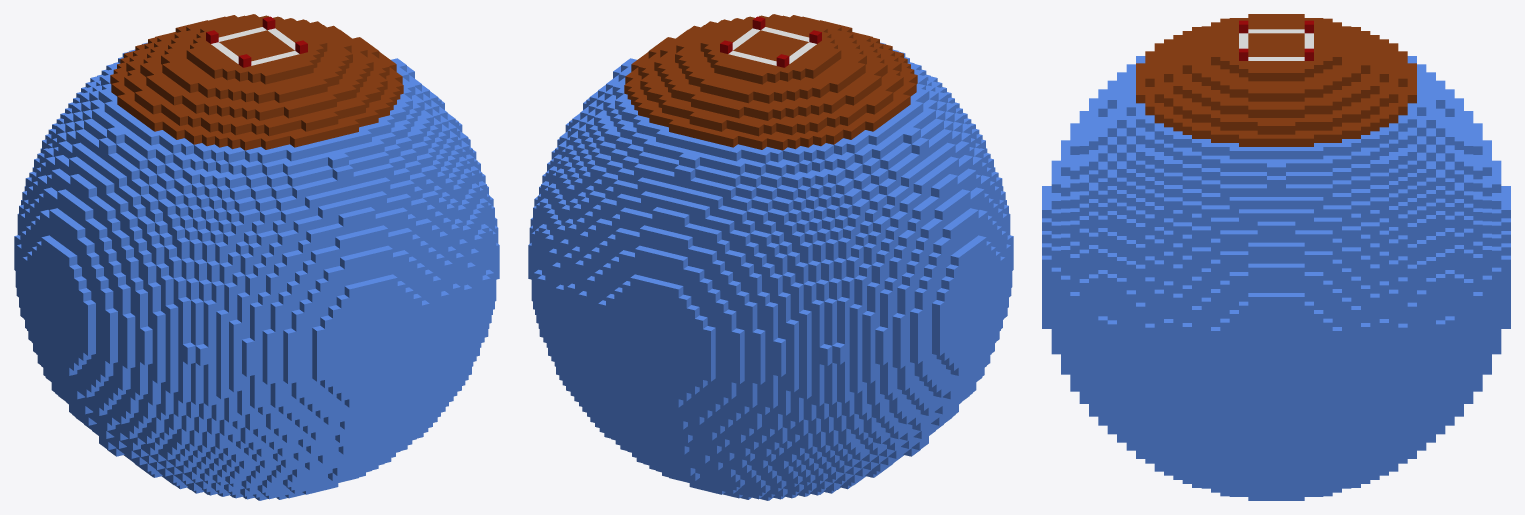
Rendered from Ground.fbx.
3 renders of one model, left to right at view 1: azimuth 30°, elevation 25°; view 2: azimuth 150°, elevation 25°; view 3: azimuth 270°, elevation 25°, orthographic.
Visible parts, largest first — view 1: Sphere; view 2: Sphere; view 3: Sphere.
Part boxes in pixels (bbox=[...]): Sphere: bbox=[14, 14, 499, 500]; Sphere: bbox=[528, 14, 1013, 500]; Sphere: bbox=[1042, 14, 1510, 500].
Bounding box in the file's own units: 50 × 51 × 50.
Materials: 1 (1 with a texture image).
